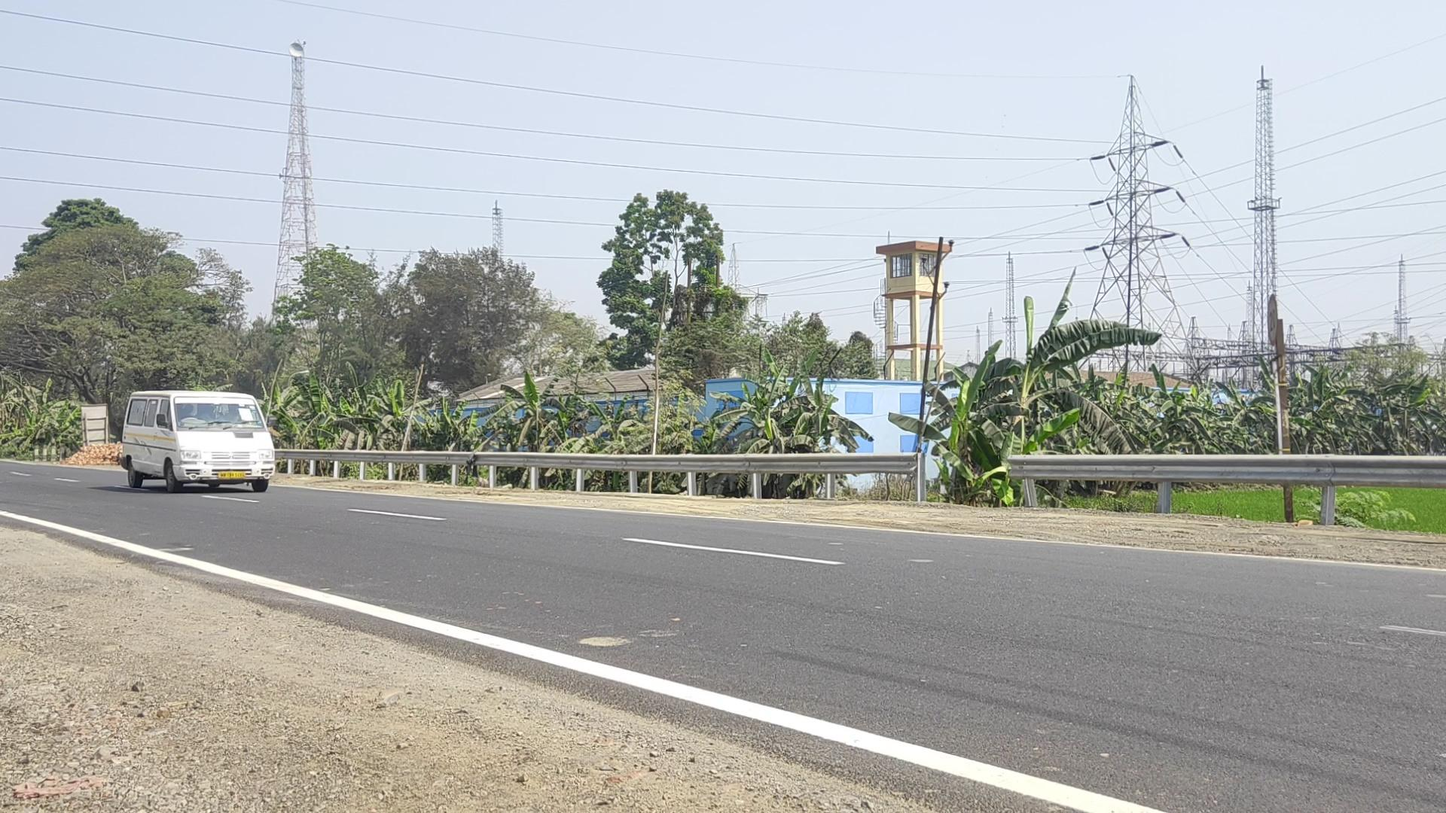van: (117, 389, 275, 492)
